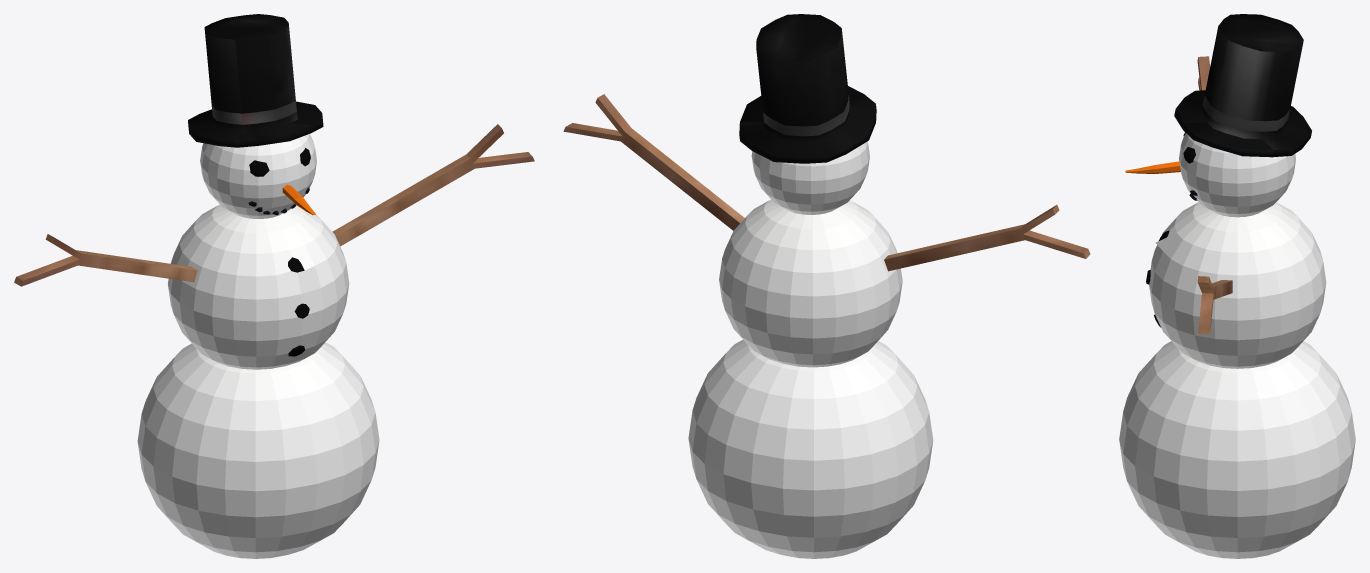
The model's file is snowmanhat.fbx.
3 renders of one model, left to right at view 1: azimuth 30°, elevation 25°; view 2: azimuth 150°, elevation 25°; view 3: azimuth 270°, elevation 25°, orthographic.
Visible parts, largest first — view 1: snowmanhat; view 2: snowmanhat; view 3: snowmanhat.
Part boxes in pixels (x1,y1,x2,y2): snowmanhat: [14, 14, 534, 558]; snowmanhat: [563, 14, 1090, 558]; snowmanhat: [1119, 14, 1355, 558].
Bounding box in the file's own units: 30.24 × 29.05 × 11.97.
